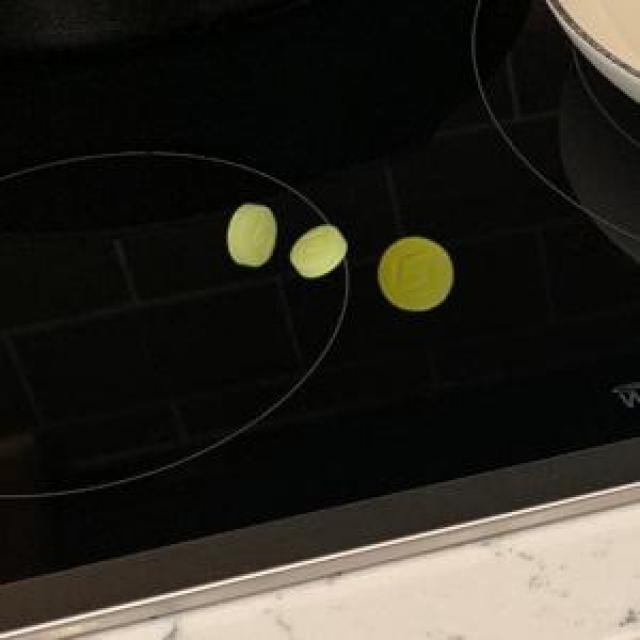Decolgen: (367, 230, 459, 324), (217, 188, 283, 280), (287, 215, 351, 295)
